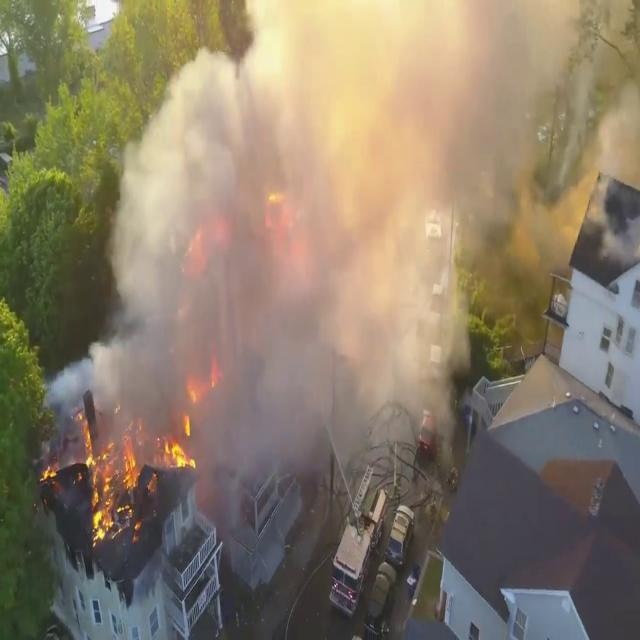Fire: (74, 404, 144, 538), (160, 417, 200, 475)
Smoke: (89, 0, 637, 487)
